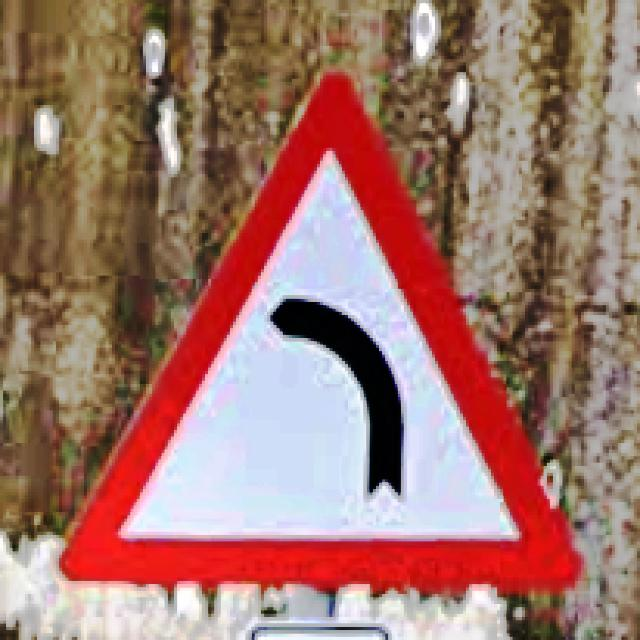leftbend: (56, 72, 584, 594)
